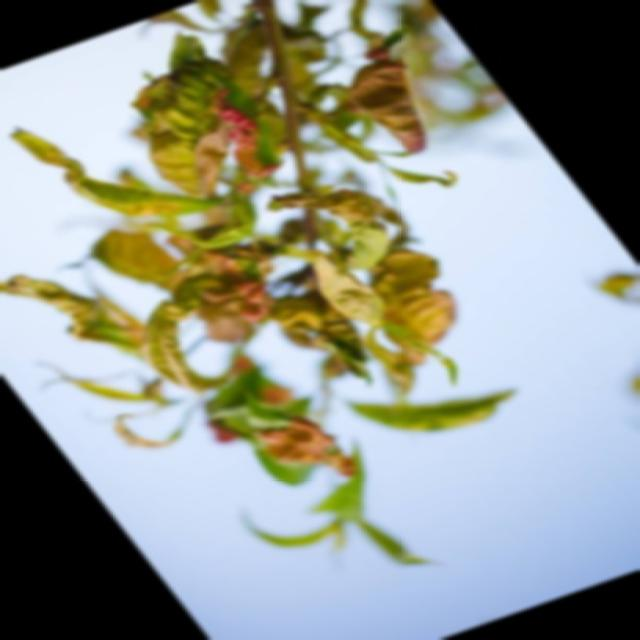peach_leaf_curl: (148, 69, 500, 396)
